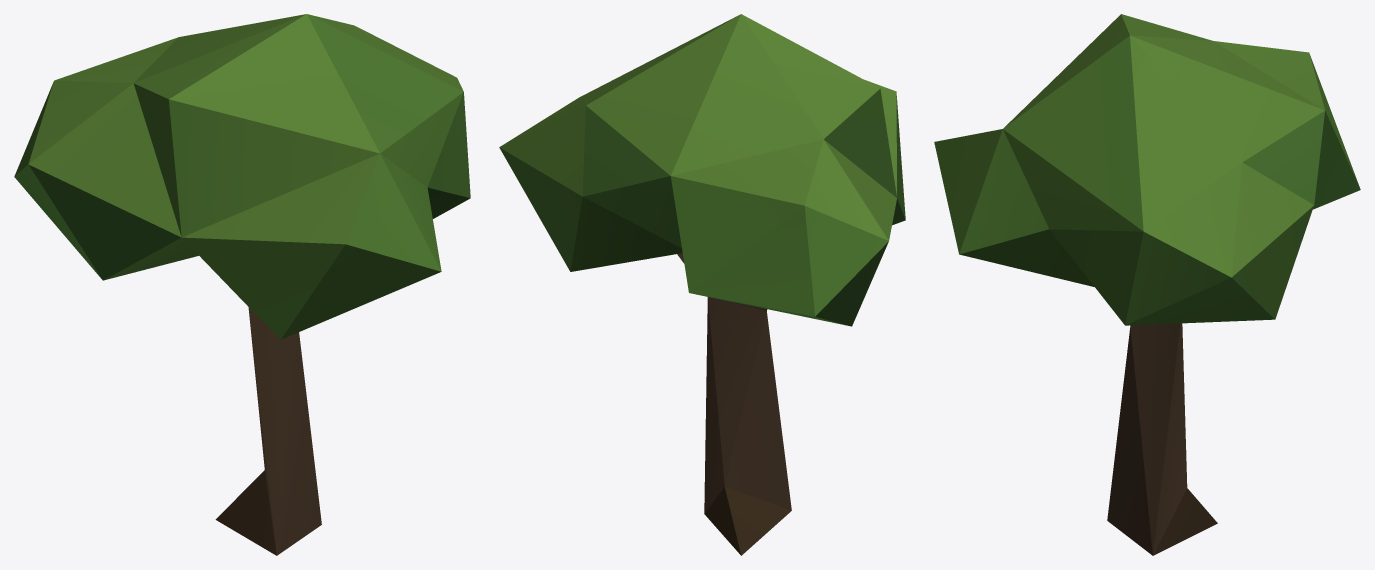
Rendered from oak_lod.glb.
3 renders of one model, left to right at view 1: azimuth 30°, elevation 25°; view 2: azimuth 150°, elevation 25°; view 3: azimuth 270°, elevation 25°, orthographic. The views are drawn at different scales.
Visible parts, largest first — view 1: OakLOD; view 2: OakLOD; view 3: OakLOD.
Boxes of the visible parts, box(x1,y1,x2,y2) form: OakLOD: box(14, 14, 470, 555); OakLOD: box(499, 14, 905, 555); OakLOD: box(934, 14, 1360, 555).
Bounding box in the file's own units: 5.52 × 6.62 × 5.02.
